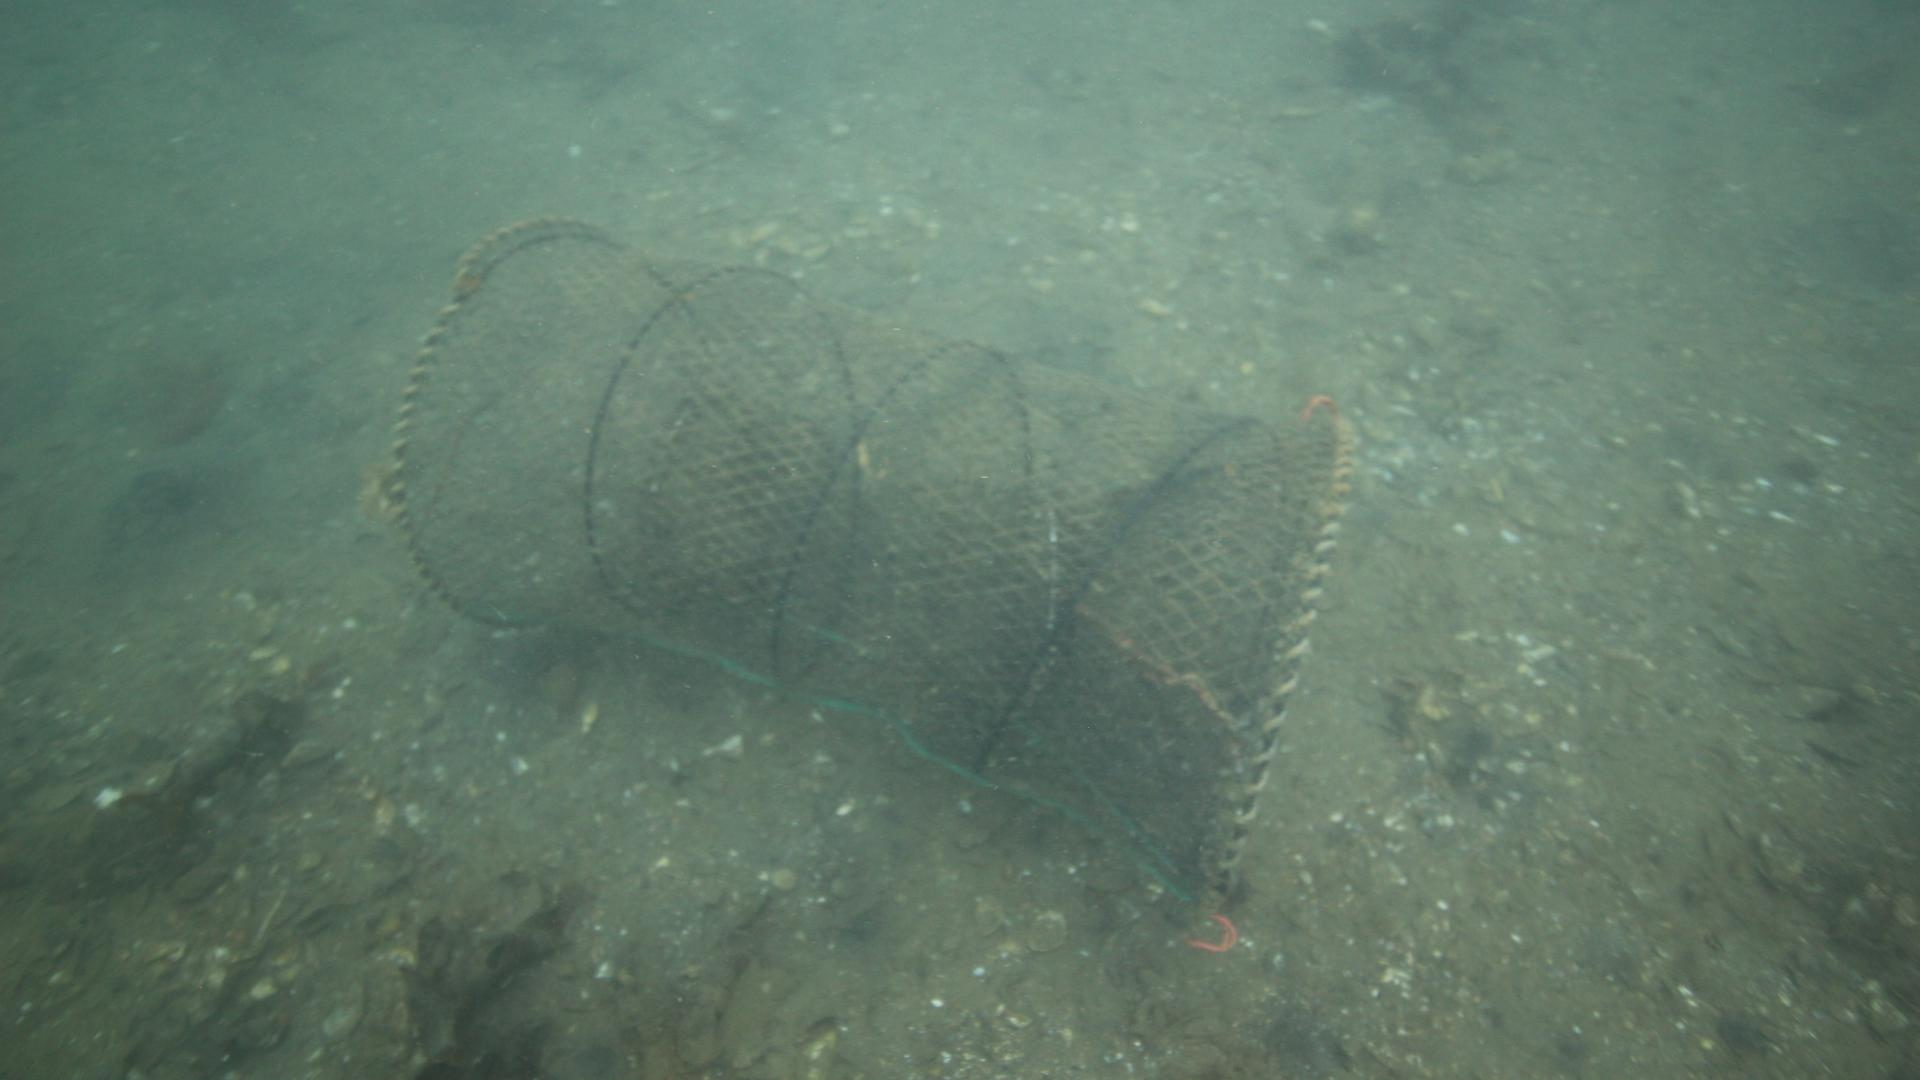spring fish trap: (378, 214, 1360, 909)
